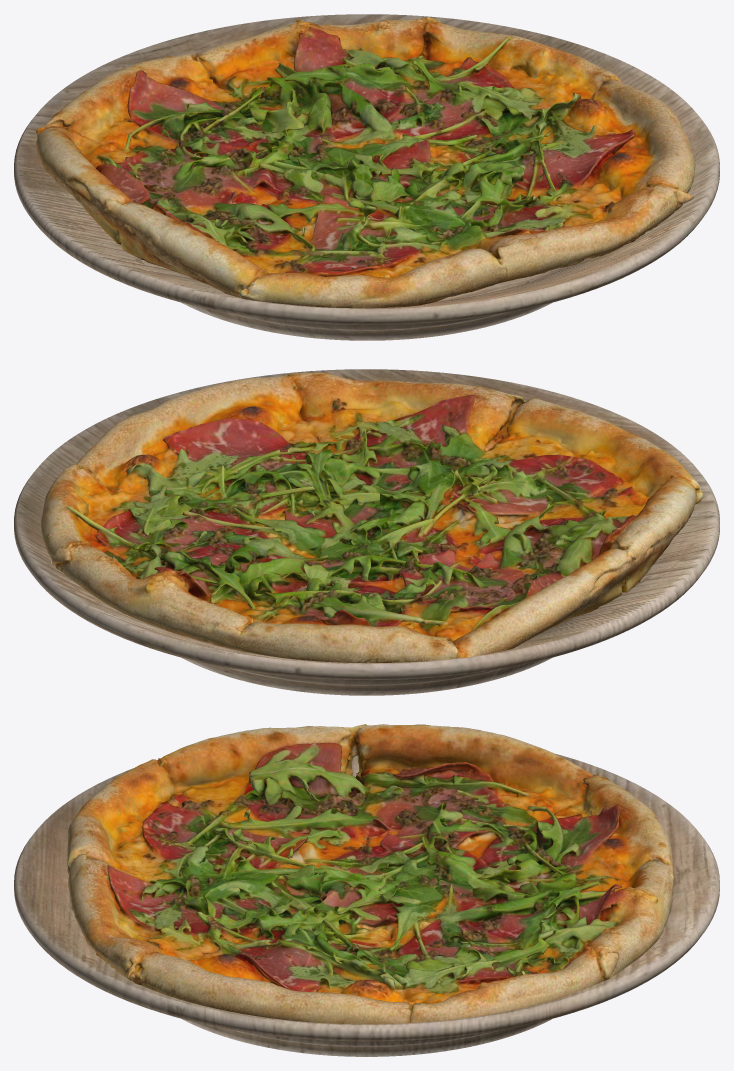
The model's file is pizza-de-forno-android.glb.
The picture shows the model from 3 angles, top to bottom: view 1: azimuth 30°, elevation 25°; view 2: azimuth 150°, elevation 25°; view 3: azimuth 270°, elevation 25°; orthographic projection.
Parts seen in each view (by area): view 1: pizza_pizza_0, Tarelka001__0; view 2: pizza_pizza_0, Tarelka001__0; view 3: pizza_pizza_0, Tarelka001__0.
Part boxes in pixels (x1=…): pizza_pizza_0: x1=36, y1=16, x2=695, y2=308; Tarelka001__0: x1=14, y1=14, x2=719, y2=340; pizza_pizza_0: x1=41, y1=372, x2=703, y2=662; Tarelka001__0: x1=14, y1=369, x2=719, y2=695; pizza_pizza_0: x1=67, y1=724, x2=673, y2=1024; Tarelka001__0: x1=14, y1=753, x2=719, y2=1056.
Size of the model in its own units: 0.35 by 0.0597 by 0.35.
2 materials, 2 textured.
